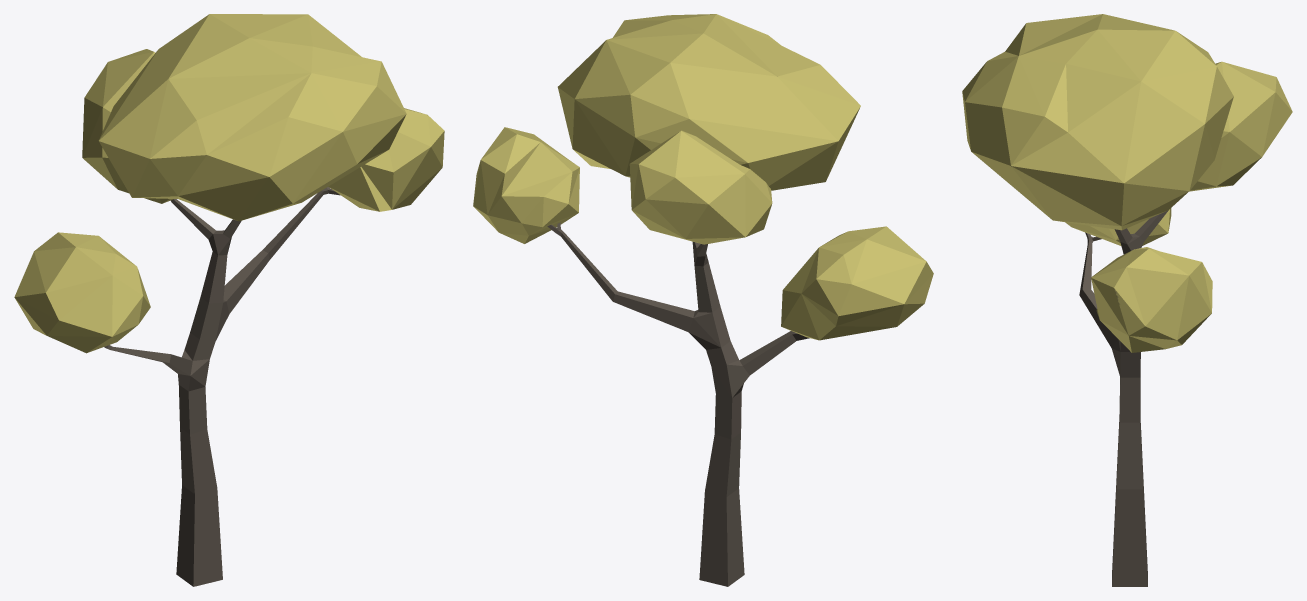
File: Small Tree.fbx
3 renders of one model, left to right at view 1: azimuth 30°, elevation 25°; view 2: azimuth 150°, elevation 25°; view 3: azimuth 270°, elevation 25°, orthographic. The views are drawn at different scales.
Visible parts, largest first — view 1: Tree; view 2: Tree; view 3: Tree.
Part boxes in pixels (bbox=[...]): Tree: bbox=[14, 14, 444, 586]; Tree: bbox=[473, 14, 933, 586]; Tree: bbox=[962, 14, 1292, 586].
Size of the model in its own units: 1474 by 1764 by 931.
